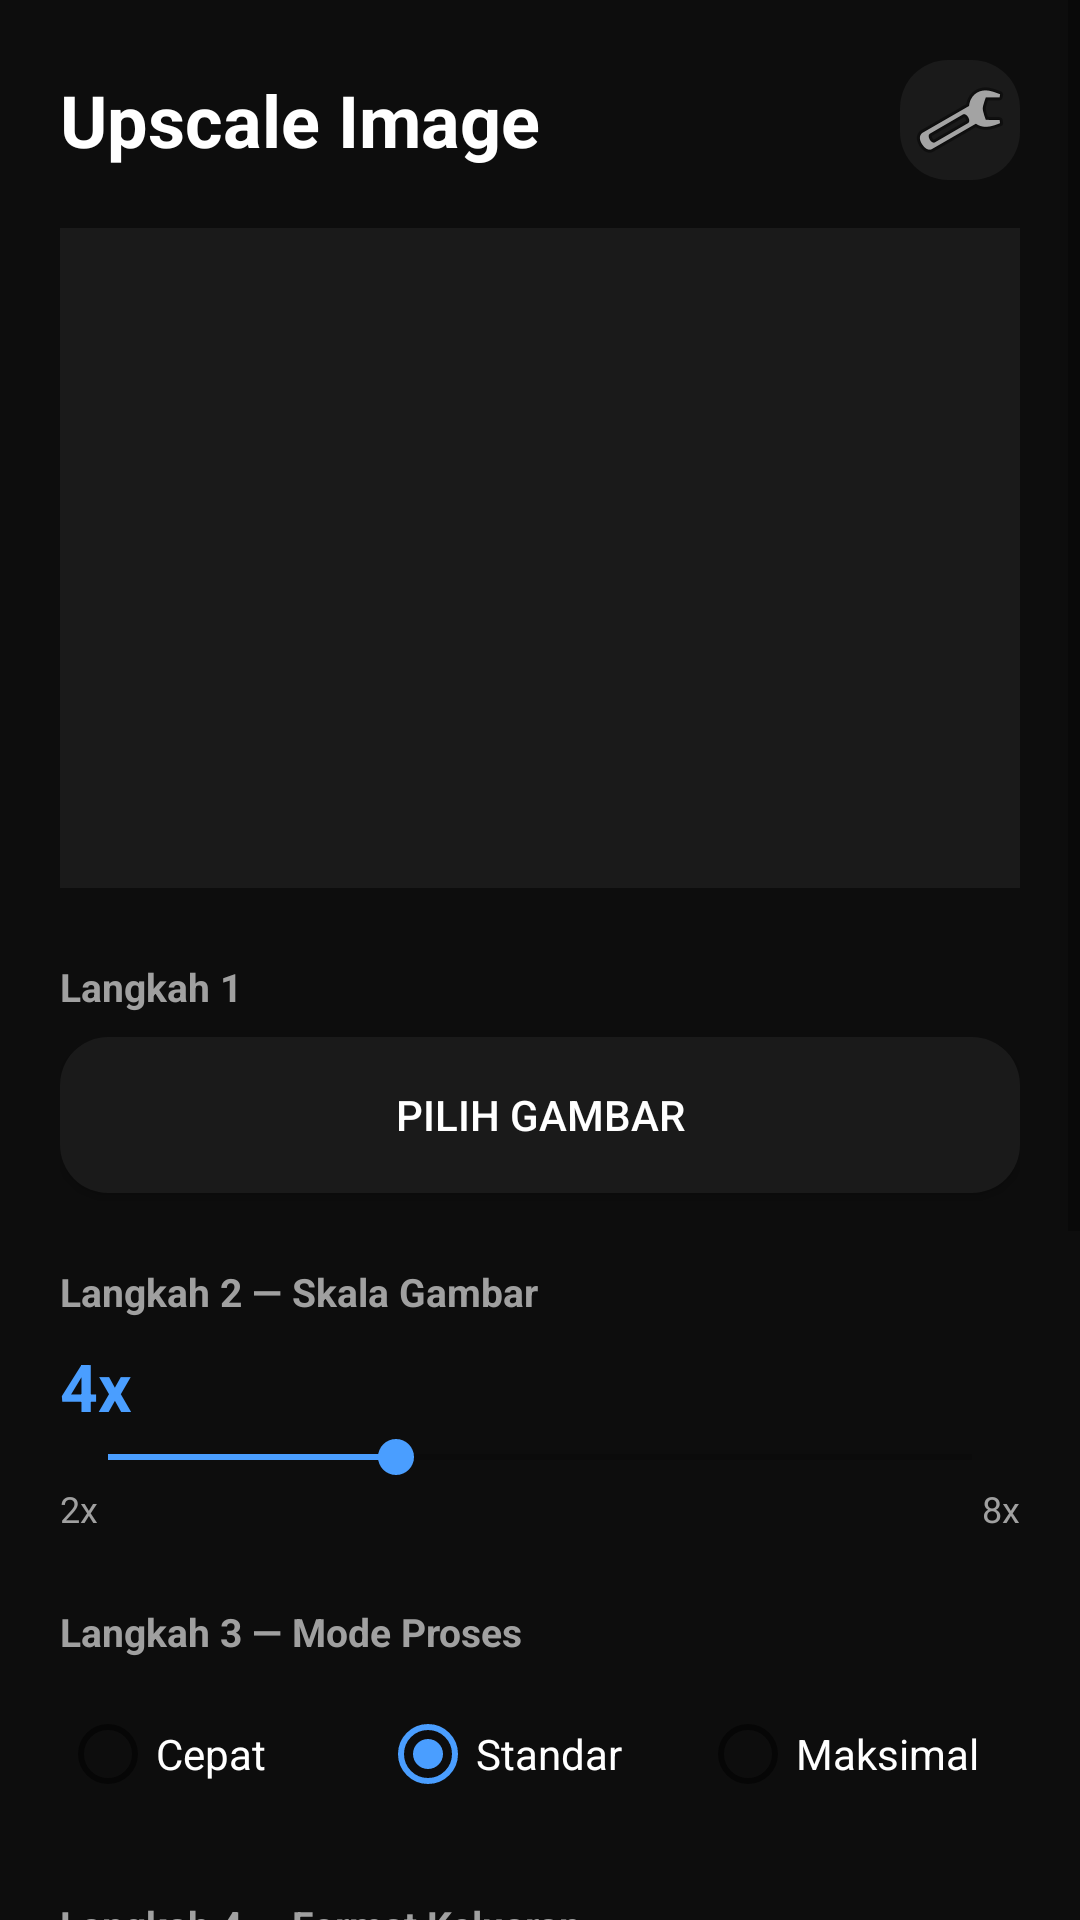

Locate icon controls on the screen. Image size 1080 × 1920, boxes as (x1, y1, x2, y2).
Pengaturan: (900, 60, 1020, 180)
